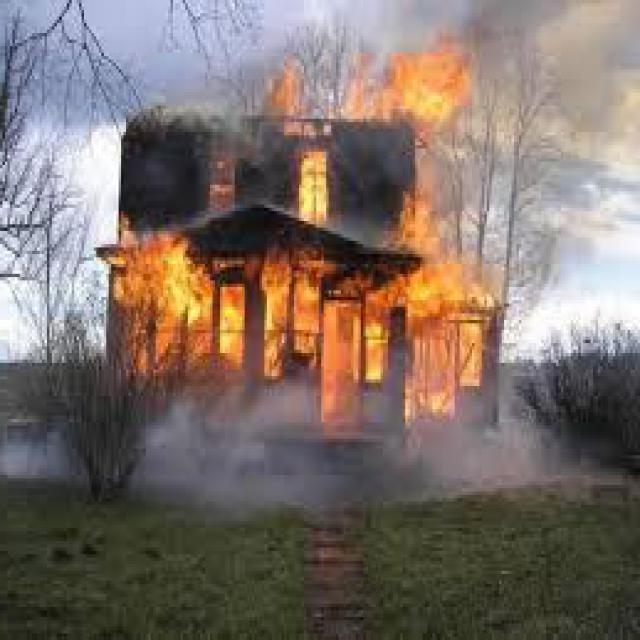Fire: (96, 39, 512, 413)
Smoke: (63, 354, 562, 526)
